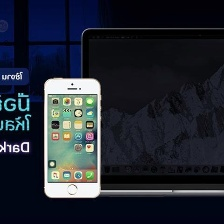phone: (40, 73, 104, 201)
